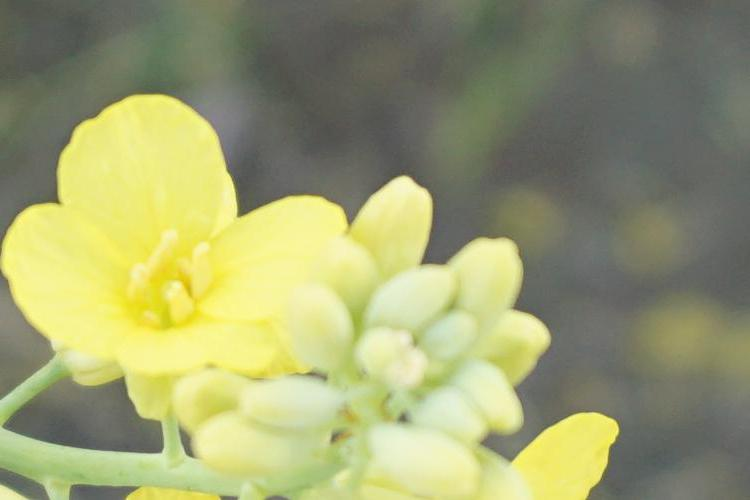bud: (434, 227, 540, 328), (346, 178, 443, 274), (364, 270, 461, 350), (188, 418, 324, 475), (365, 425, 483, 489), (300, 237, 374, 324), (290, 289, 358, 381), (244, 378, 352, 434), (401, 310, 475, 389), (471, 314, 558, 380), (167, 370, 249, 435), (456, 364, 526, 436), (408, 388, 494, 440)
yellow: (19, 61, 336, 393)
